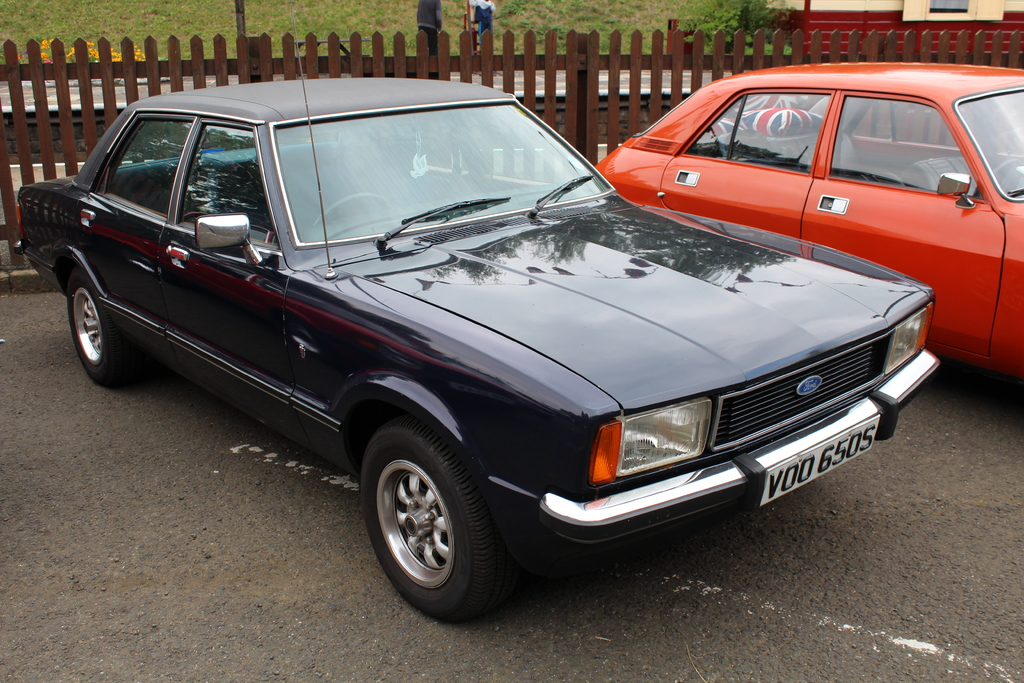Car: (13, 0, 941, 622), (592, 62, 1024, 387)
